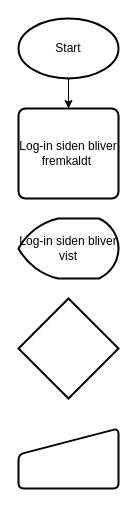
Image size: 136x506. Some labels were removed from this diagram. The shapes that lost their labels are listed below. From the top down, each one's centre as x and y in pixels, then its label:
At pixel 68 348: "Indtaster brugeren sine data".
At pixel 68 458: "Brugeren indtaster sine data".
